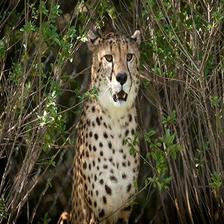Cheetah: (52, 28, 155, 224)
